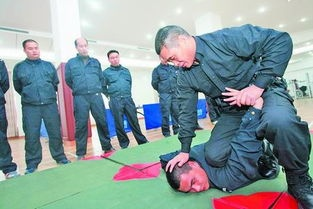falling: (154, 97, 294, 197)
